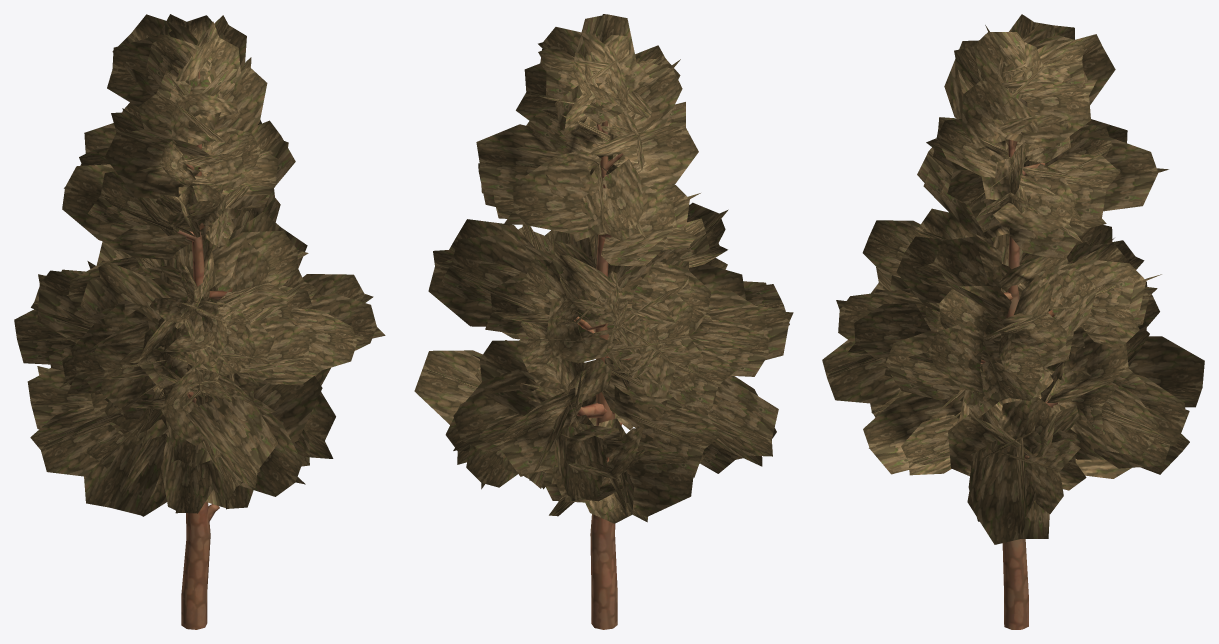
File: P_FirTree3.obj
The picture shows the model from 3 angles, left to right: view 1: azimuth 30°, elevation 25°; view 2: azimuth 150°, elevation 25°; view 3: azimuth 270°, elevation 25°; orthographic projection.
Size of the model in its own units: 6.62 by 11.61 by 6.69.
